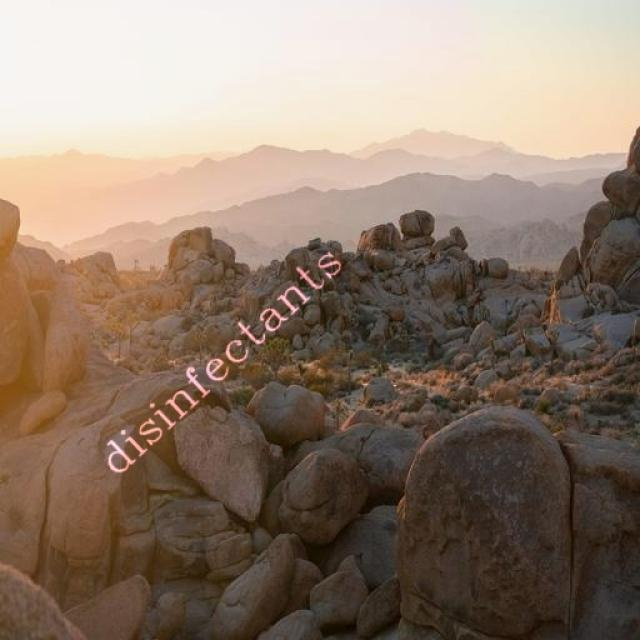watermark: (104, 230, 344, 486)
